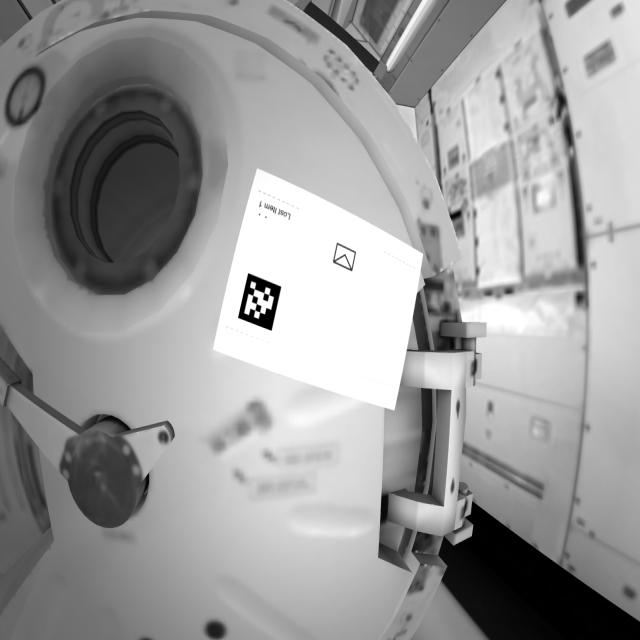letter: (329, 237, 364, 277)
